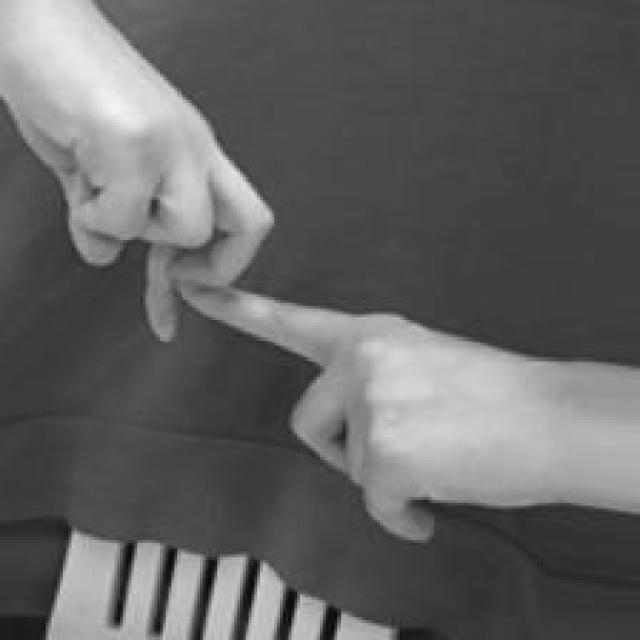R: (47, 66, 568, 549)
